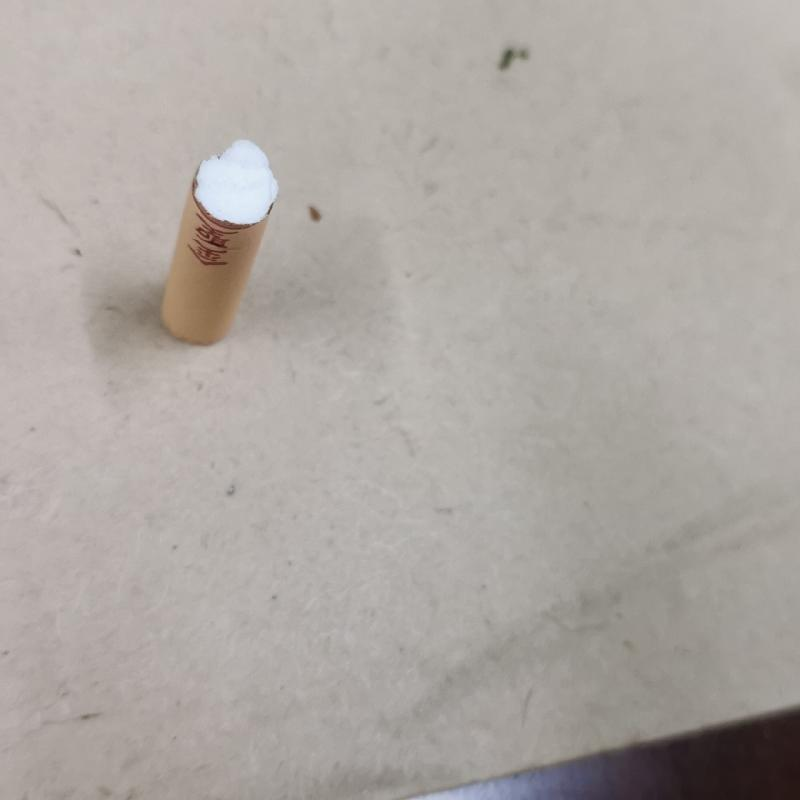cigarette: (155, 136, 281, 347)
